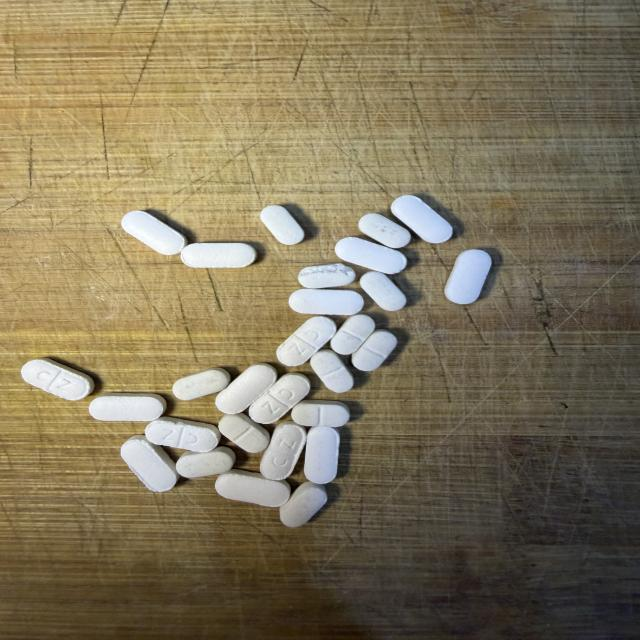pill: (121, 435, 179, 492), (249, 373, 310, 423), (21, 359, 94, 400), (216, 364, 277, 413), (277, 316, 336, 366), (391, 195, 452, 243), (122, 211, 187, 255), (215, 470, 290, 507), (260, 422, 306, 480), (145, 417, 220, 452), (335, 237, 406, 273), (445, 250, 491, 304), (280, 482, 327, 527), (89, 394, 166, 421), (219, 413, 269, 453), (304, 427, 339, 484), (289, 289, 363, 315), (181, 243, 256, 268), (352, 330, 397, 371), (360, 271, 406, 311), (173, 368, 230, 400), (176, 447, 235, 477), (311, 350, 353, 392), (260, 205, 304, 245), (359, 214, 410, 248), (331, 315, 375, 354), (292, 400, 350, 427), (298, 263, 355, 288)
